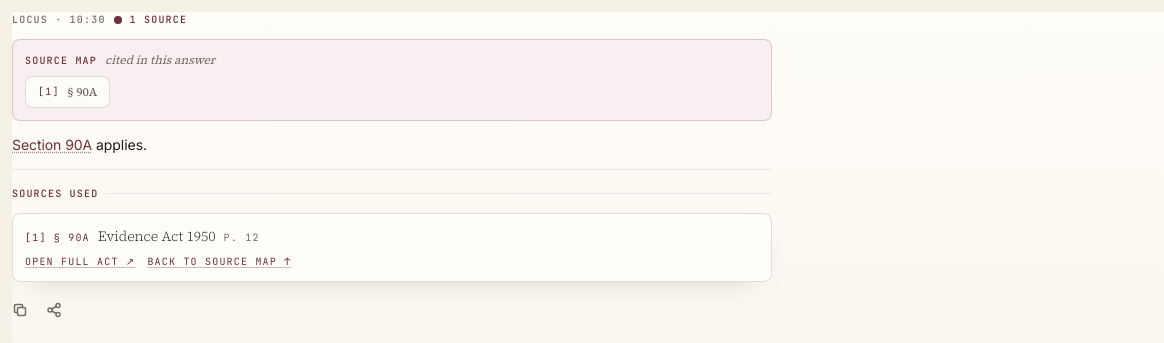
Test: share control › copies the response Markdown when navigator.share is missing
The width and height of the screenshot is (1164, 343).
Click the button named "Share response" at (54, 310), box [38,294,70,326]
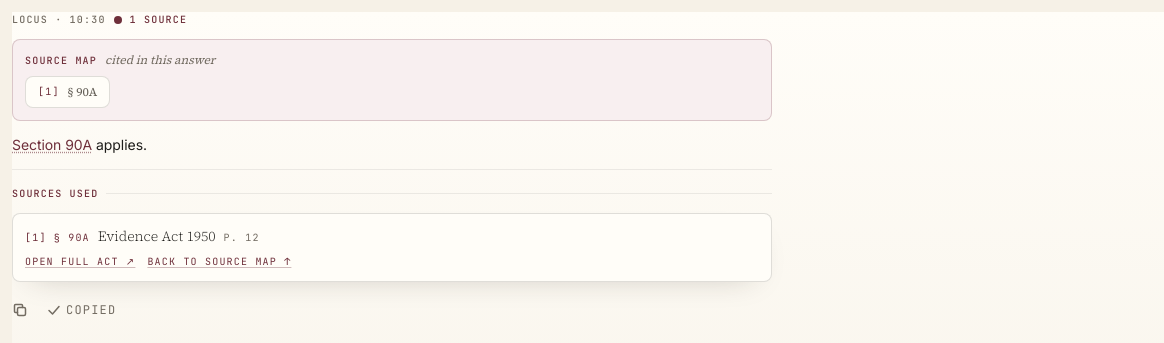
Expected: the text "Copied" is shown, [66,302,116,318]
